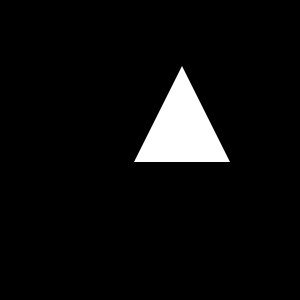triangle: (134, 66, 230, 162)
